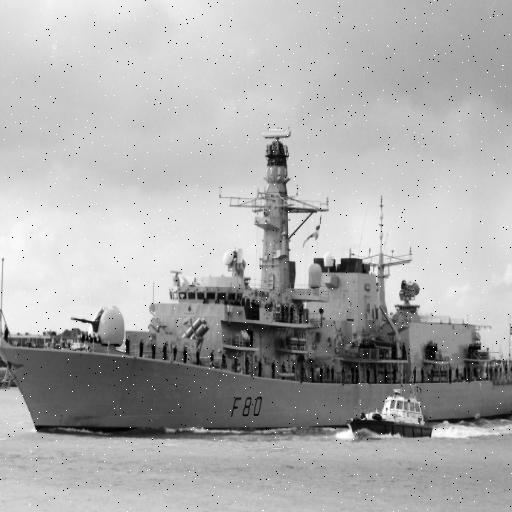Fragata: (1, 121, 512, 445)
